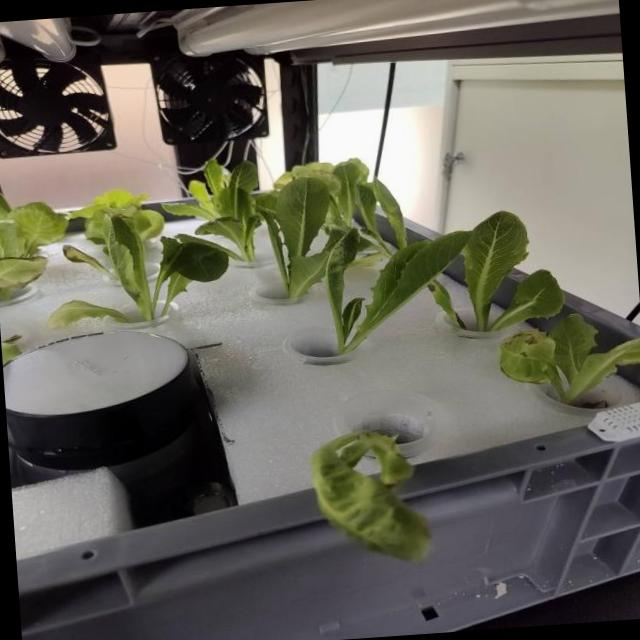Lettuce-Not-Ready-to-Harvest: (324, 229, 469, 354), (311, 430, 430, 562), (498, 313, 640, 405), (107, 214, 229, 320), (462, 211, 564, 331), (256, 177, 330, 297), (333, 158, 407, 256), (195, 161, 261, 261), (70, 189, 164, 244), (0, 192, 68, 256), (163, 158, 230, 220), (0, 219, 47, 300), (46, 299, 131, 328), (274, 161, 340, 195), (428, 279, 466, 329), (63, 245, 115, 278), (1, 334, 22, 364)
